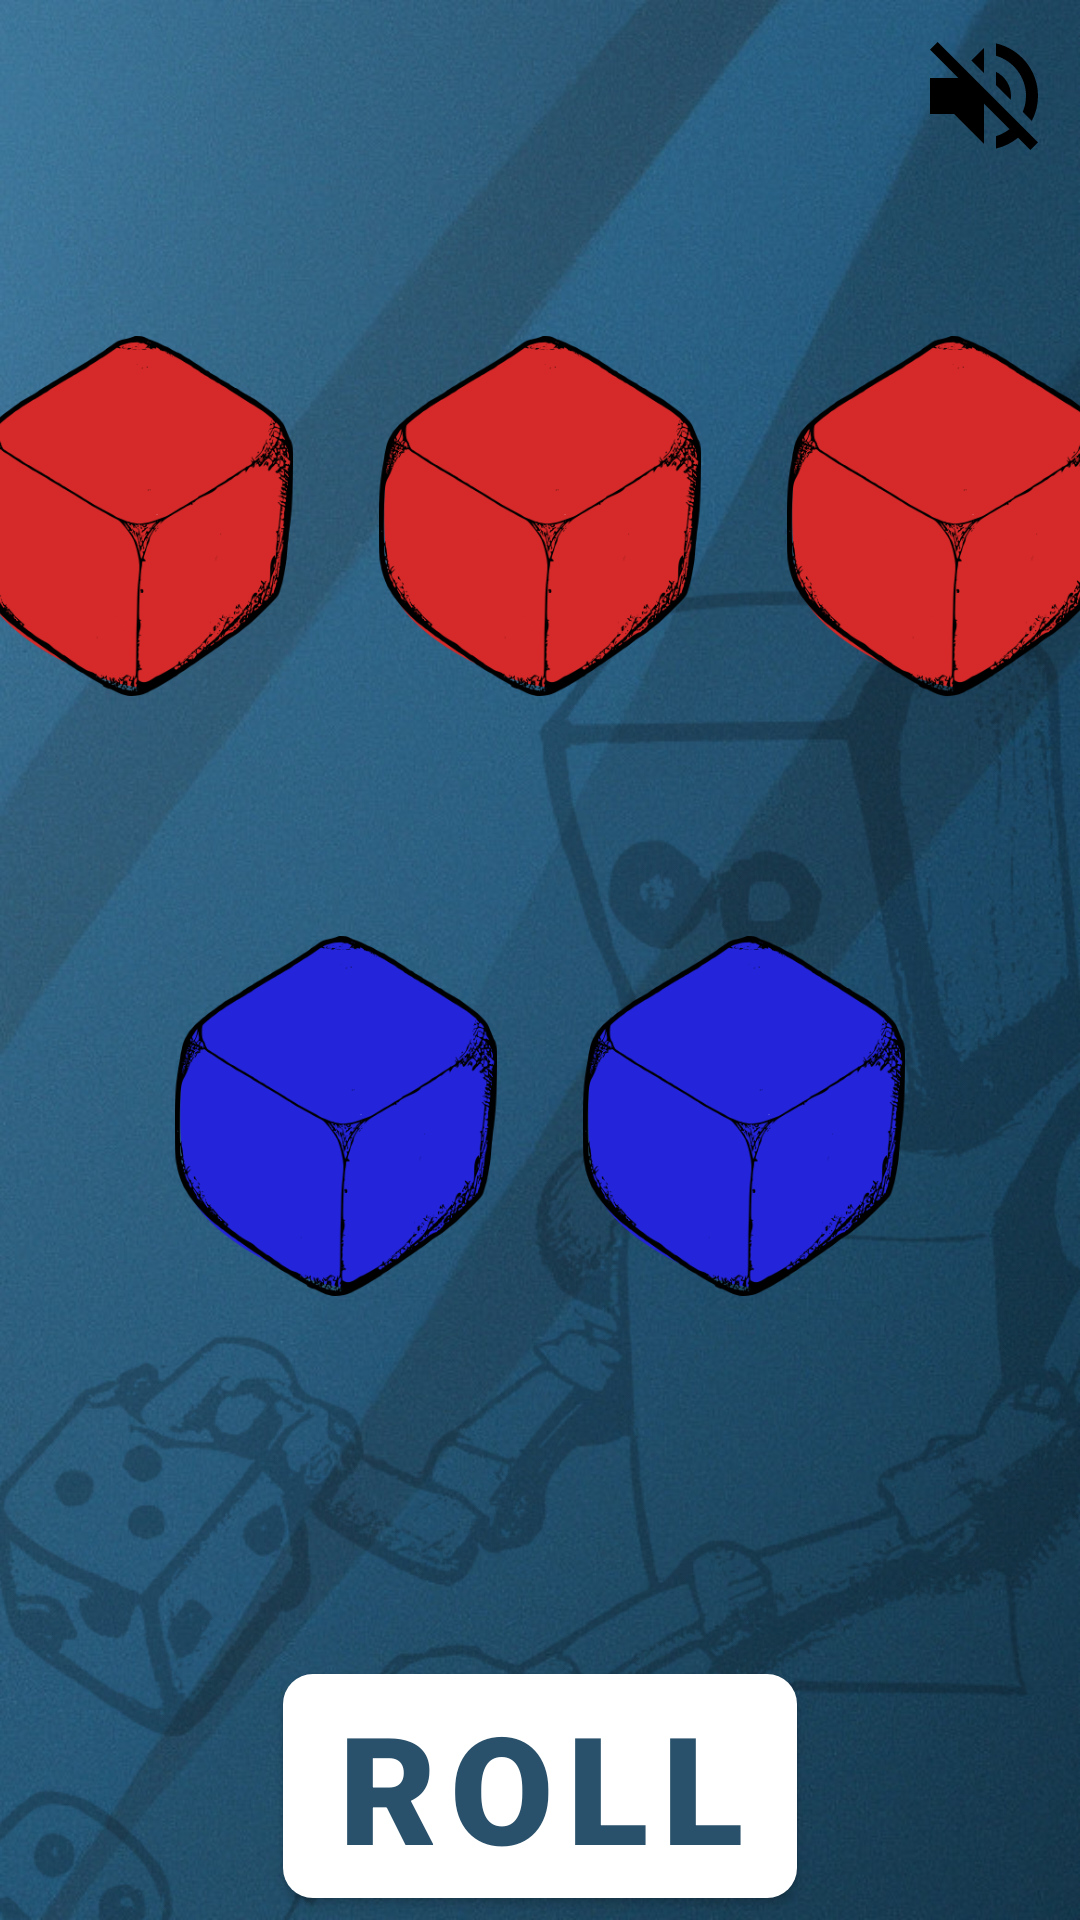

Icon click points for this 1080x1920 phone screenshot, format point (x, y):
Blue Dice 1: point (336, 1116)
dice comic blank: point (549, 516), point (743, 1116)
Toggle read aloud: point (975, 87)
